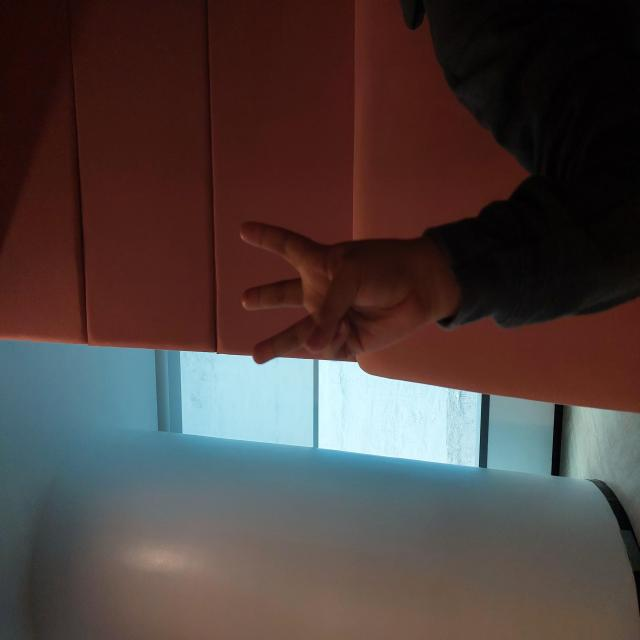W: (269, 231, 427, 435)
